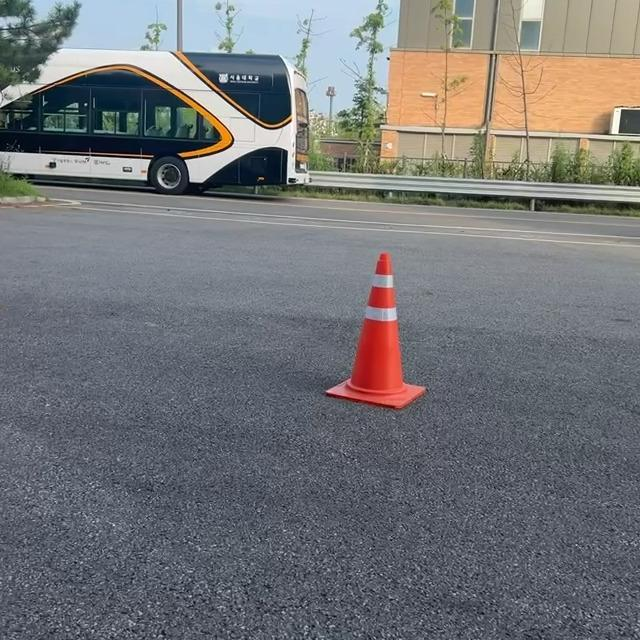fallen_object: (267, 222, 466, 443)
